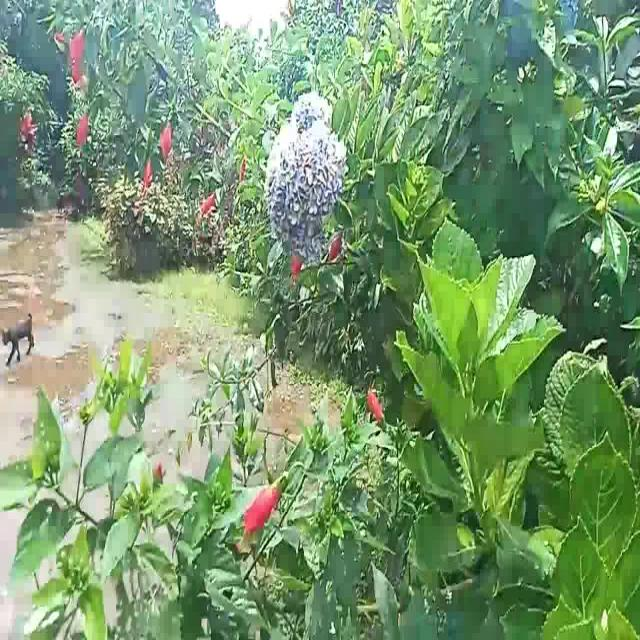Flower: (267, 90, 343, 233), (245, 470, 291, 535)
